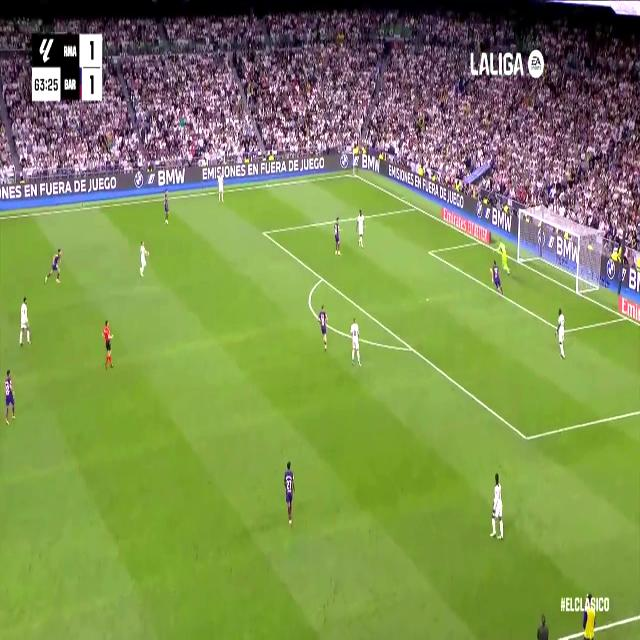bigarea_bottom_inner: (521, 426, 532, 450)
bigarea_top_inner: (261, 225, 267, 239)
bigarea_top_outter: (412, 200, 420, 213)
bottom_arc_area_intersection: (406, 339, 416, 357)
corner: (350, 169, 358, 179)
smallarea_top_inner: (427, 246, 432, 257)
top_arc_area_intersection: (320, 272, 324, 283)
